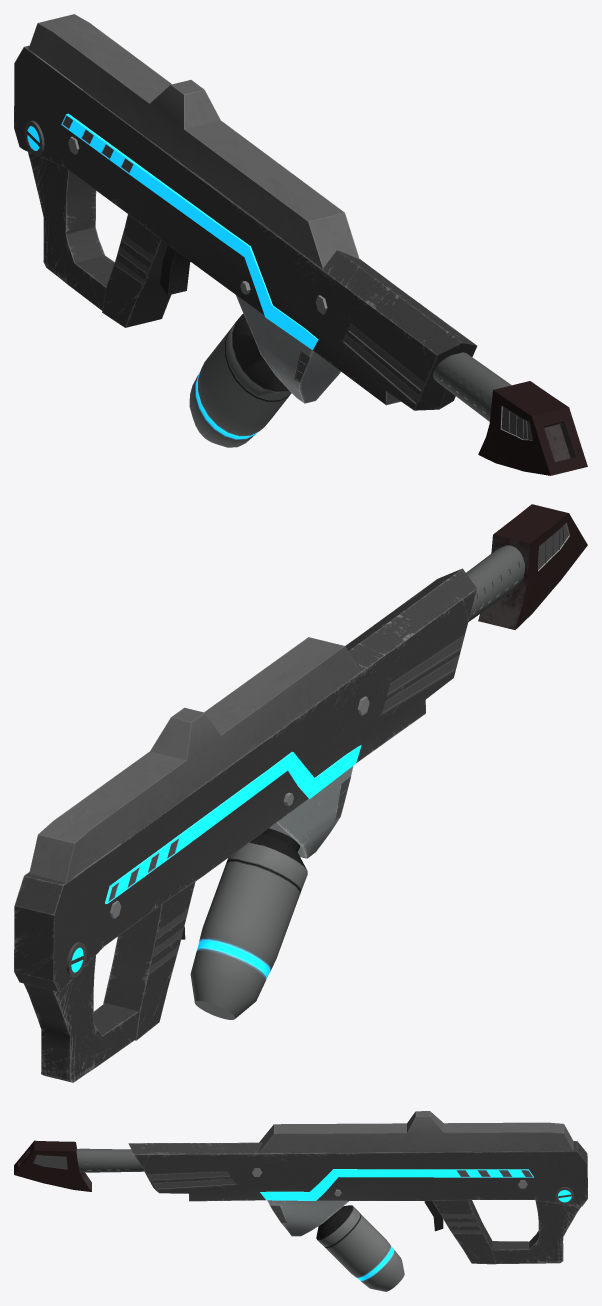
File: playerGun(accurate).glb
The picture shows the model from 3 angles, top to bottom: view 1: azimuth 30°, elevation 25°; view 2: azimuth 150°, elevation 25°; view 3: azimuth 270°, elevation 25°; orthographic projection. The views are drawn at different scales.
Parts seen in each view (by area): view 1: Chassy, Top_frame., Grip, Canister, Gun, Cannister Holder, Pipe, Trigger.; view 2: Chassy, Top_frame., Grip, Canister, Gun, Cannister Holder, Pipe; view 3: Chassy, Top_frame., Grip, Canister, Gun, Cannister Holder, Pipe, Power_screw.001, Trigger..
Part boxes in pixels (box(x1,y1,x2,y2)): Chassy: box(14, 45, 477, 410); Top_frame.: box(28, 14, 359, 268); Grip: box(28, 152, 171, 327); Canister: box(189, 313, 291, 447); Gun: box(478, 381, 587, 475); Cannister Holder: box(236, 295, 340, 403); Pipe: box(433, 352, 511, 421); Trigger.: box(160, 245, 190, 295); Chassy: box(14, 568, 477, 991); Top_frame.: box(29, 637, 359, 882); Grip: box(24, 882, 195, 1082); Canister: box(190, 828, 307, 1019); Gun: box(478, 504, 587, 629); Cannister Holder: box(269, 766, 353, 858); Pipe: box(466, 545, 524, 621); Chassy: box(128, 1141, 587, 1206); Top_frame.: box(258, 1111, 573, 1152); Grip: box(432, 1200, 580, 1264); Canister: box(316, 1205, 404, 1291); Gun: box(14, 1140, 91, 1191); Cannister Holder: box(267, 1200, 348, 1236); Pipe: box(76, 1148, 144, 1172); Power_screw.001: box(555, 1187, 574, 1204); Trigger.: box(424, 1201, 443, 1231).
Bounding box in the file's own units: 0.0756 × 0.3586 × 1.05.
1 material, 1 textured.
